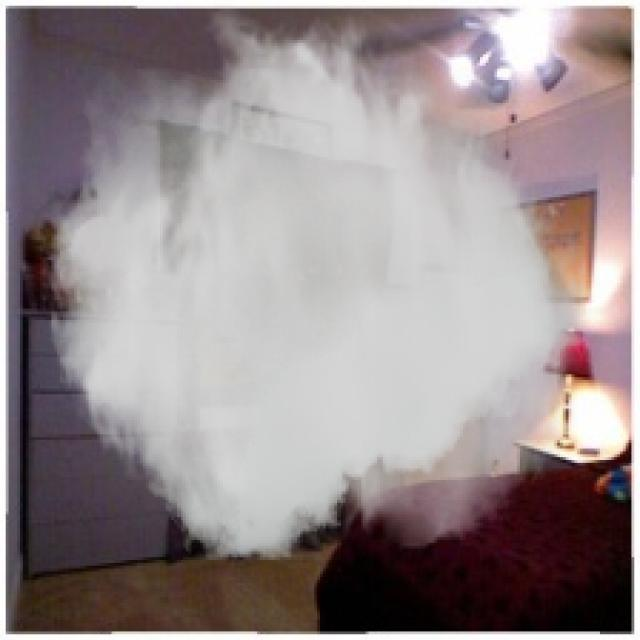Smoke: (43, 0, 586, 560)
